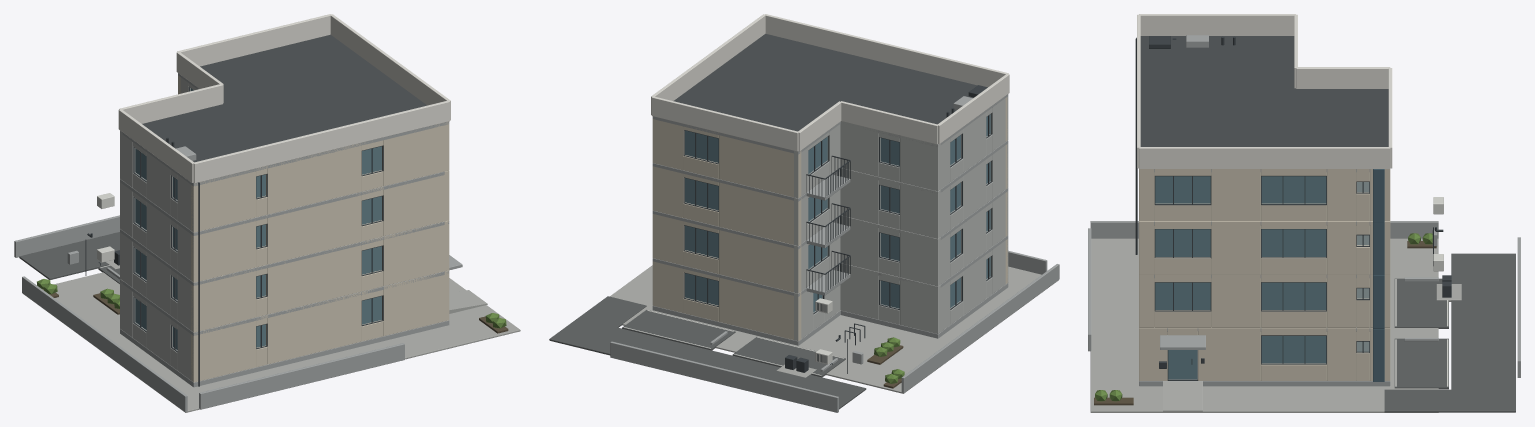
The model's file is VILLA_03_CORNER_MIXED.fbx.
3 views of the same model, side by side, from view 1: azimuth 30°, elevation 25°; view 2: azimuth 150°, elevation 25°; view 3: azimuth 270°, elevation 25° (orthographic). The views are drawn at different scales.
Parts seen in each view (by area): view 1: UNITY_ASSET_VILLA_03_CORNER_MIXED; view 2: UNITY_ASSET_VILLA_03_CORNER_MIXED; view 3: UNITY_ASSET_VILLA_03_CORNER_MIXED.
Boxes of the visible parts, x1=… form: UNITY_ASSET_VILLA_03_CORNER_MIXED: x1=14, y1=14, x2=520, y2=412; UNITY_ASSET_VILLA_03_CORNER_MIXED: x1=549, y1=14, x2=1059, y2=412; UNITY_ASSET_VILLA_03_CORNER_MIXED: x1=1088, y1=14, x2=1520, y2=412.
Size of the model in its own units: 18.55 by 11.9 by 19.42.
